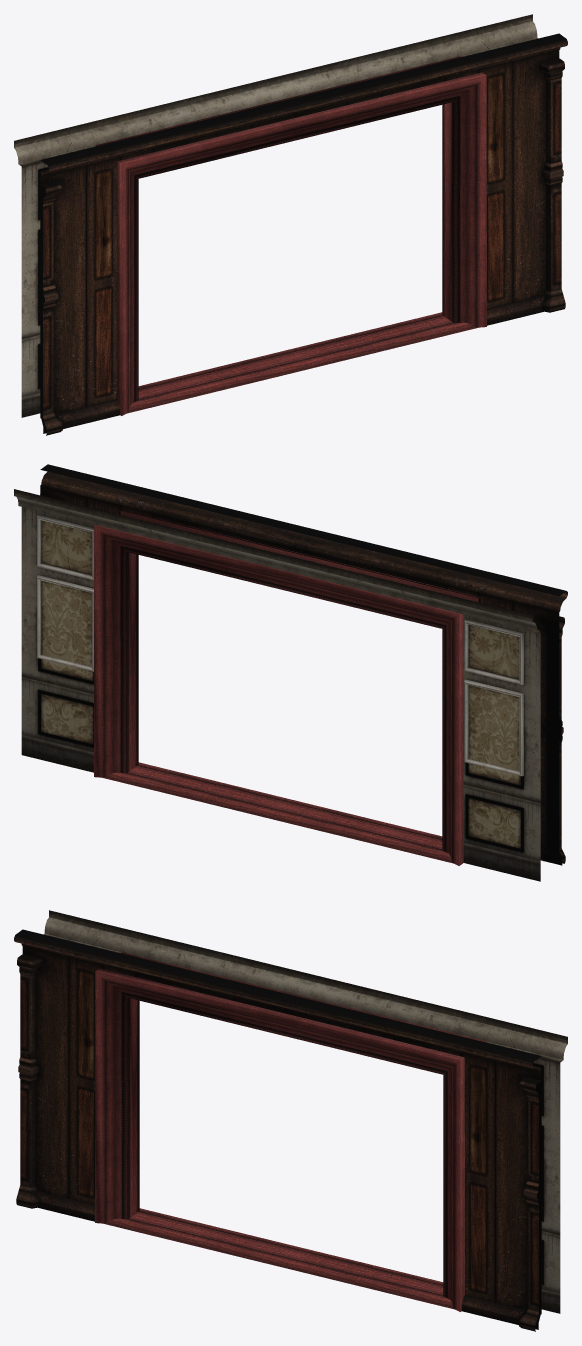
File: music_room_doorway_02.DAE
The picture shows the model from 3 angles, top to bottom: view 1: azimuth 30°, elevation 25°; view 2: azimuth 150°, elevation 25°; view 3: azimuth 330°, elevation 25°; orthographic projection.
Visible parts, largest first — view 1: Box012, Box013, Box011; view 2: Box011, Box013, Box012; view 3: Box012, Box013, Box011.
Part boxes in pixels (left/top/right/bottom): Box012: left=40, top=33, right=567, bottom=435; Box013: left=95, top=56, right=486, bottom=415; Box011: left=14, top=14, right=538, bottom=417; Box011: left=14, top=489, right=540, bottom=881; Box013: left=94, top=508, right=482, bottom=865; Box012: left=40, top=464, right=567, bottom=865; Box012: left=14, top=929, right=541, bottom=1331; Box013: left=95, top=952, right=486, bottom=1311; Box011: left=43, top=910, right=567, bottom=1313.
Size of the model in its own units: 8 by 4 by 0.9352.
